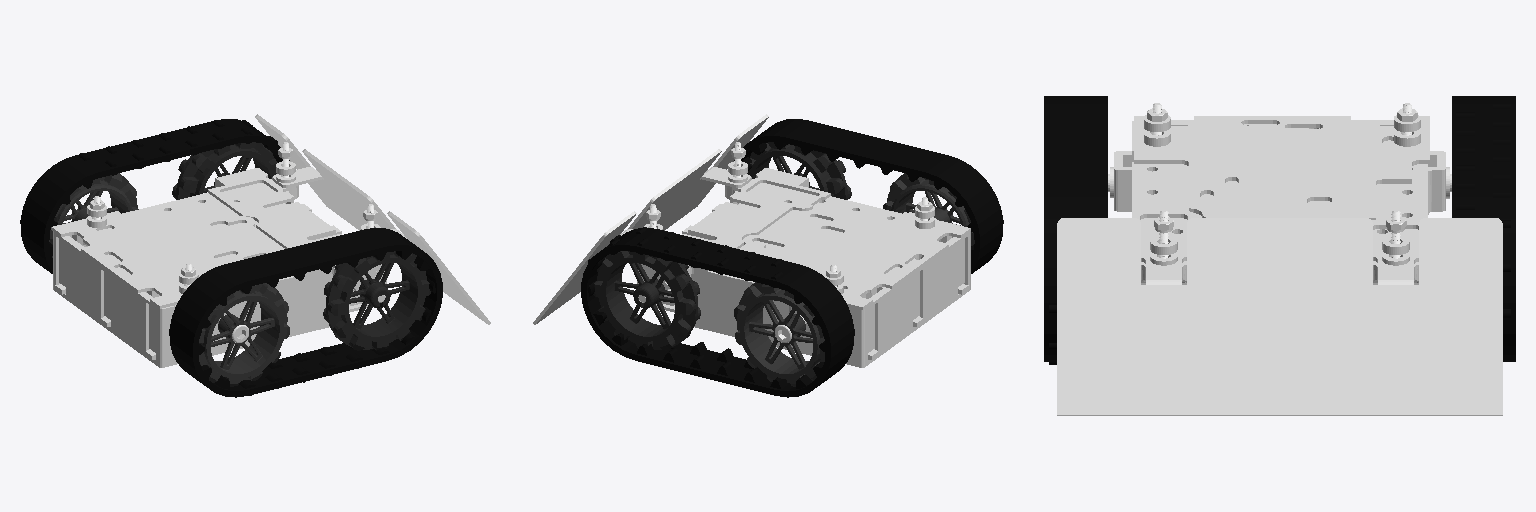
URDF robot description (ROBOT_ZUMO_URDF.SLDASM):
<?xml version="1.0"?>
<robot name="ROBOT_ZUMO_URDF.SLDASM">

  <!-- =========================
       BASE
       ========================= -->
  <link name="base_link">
    <inertial>
      <origin xyz="0.0236 -5.1838E-05 -0.0061259" rpy="0 0 0" />
      <mass value="0.11075" />
      <inertia
        ixx="4.9793E-05"
        ixy="3.8196E-08"
        ixz="2.6959E-06"
        iyy="2.5319E-05"
        iyz="-8.3368E-09"
        izz="6.6541E-05" />
    </inertial>
    <visual>
      <origin xyz="0 0 0" rpy="0 0 0" />
      <geometry>
        <mesh filename="package://zumo_1/meshes/base_link.STL" />
      </geometry>
      <material name="base_light">
        <color rgba="0.93 0.93 0.93 1" />
      </material>
    </visual>
    <collision>
      <origin xyz="0 0 0" rpy="0 0 0" />
      <geometry>
        <mesh filename="package://zumo_1/meshes/base_link.STL" />
      </geometry>
    </collision>
  </link>

  <!-- =========================
       LEFT WHEEL
       ========================= -->
  <link name="left_wheel_link">
    <inertial>
      <origin xyz="6.9713E-07 -1.653E-05 -0.0043321" rpy="0 0 0" />
      <mass value="0.0029113" />
      <inertia
        ixx="2.8399E-07"
        ixy="-4.3011E-12"
        ixz="1.9308E-12"
        iyy="2.8409E-07"
        iyz="-4.5784E-11"
        izz="5.3685E-07" />
    </inertial>
    <visual>
      <origin xyz="0 0 0" rpy="0 0 0" />
      <geometry>
        <mesh filename="package://zumo_1/meshes/left_wheel_link.STL" />
      </geometry>
      <material name="wheel_dark">
        <color rgba="0.20 0.20 0.20 1" />
      </material>
    </visual>
    <collision>
      <origin xyz="0 0 0" rpy="0 0 0" />
      <geometry>
        <mesh filename="package://zumo_1/meshes/left_wheel_link.STL" />
      </geometry>
    </collision>
  </link>

  <joint name="left_wheel_joint" type="continuous">
    <origin xyz="0.02926 0.04866 -0.006" rpy="-1.5708 -0.0058913 0" />
    <parent link="base_link" />
    <child link="left_wheel_link" />
    <axis xyz="0 0 1" />
    <limit effort="100" velocity="100" />
    <dynamics damping="0.005" friction="0.03" />
  </joint>

  <!-- =========================
       RIGHT WHEEL
       ========================= -->
  <link name="right_wheel_link">
    <inertial>
      <origin xyz="3.6323E-07 -1.6541E-05 0.0043321" rpy="0 0 0" />
      <mass value="0.0029113" />
      <inertia
        ixx="2.8399E-07"
        ixy="-2.2425E-12"
        ixz="-1.0061E-12"
        iyy="2.8409E-07"
        iyz="4.5814E-11"
        izz="5.3685E-07" />
    </inertial>
    <visual>
      <origin xyz="0 0 0" rpy="0 0 0" />
      <geometry>
        <mesh filename="package://zumo_1/meshes/right_wheel_link.STL" />
      </geometry>
      <material name="wheel_dark_r">
        <color rgba="0.20 0.20 0.20 1" />
      </material>
    </visual>
    <collision>
      <origin xyz="0 0 0" rpy="0 0 0" />
      <geometry>
        <mesh filename="package://zumo_1/meshes/right_wheel_link.STL" />
      </geometry>
    </collision>
  </link>

  <joint name="right_wheel_joint" type="continuous">
    <origin xyz="0.02926 -0.04888 -0.006" rpy="-1.5708 -0.0058913 0" />
    <parent link="base_link" />
    <child link="right_wheel_link" />
    <axis xyz="0 0 1" />
    <limit effort="100" velocity="100" />
    <dynamics damping="0.005" friction="0.03" />
  </joint>

  <!-- =========================
       RIGHT IDLER
       ========================= -->
  <link name="right_idler_link">
    <inertial>
      <origin xyz="1.3878E-17 -1.3878E-17 0.0054685" rpy="0 0 0" />
      <mass value="0.0030148" />
      <inertia
        ixx="2.9977E-07"
        ixy="-3.7071E-20"
        ixz="1.5007E-23"
        iyy="2.9977E-07"
        iyz="-2.5771E-23"
        izz="5.6146E-07" />
    </inertial>
    <visual>
      <origin xyz="0 0 0" rpy="0 0 0" />
      <geometry>
        <mesh filename="package://zumo_1/meshes/right_idler_link.STL" />
      </geometry>
      <material name="idler_dark_r">
        <color rgba="0.25 0.25 0.25 1" />
      </material>
    </visual>
    <collision>
      <origin xyz="0 0 0" rpy="0 0 0" />
      <geometry>
        <mesh filename="package://zumo_1/meshes/right_idler_link.STL" />
      </geometry>
    </collision>
  </link>

  <joint name="right_idler_joint" type="continuous">
    <origin xyz="-0.01974 -0.05063 -0.0062887" rpy="-1.5708 -0.0058913 0" />
    <parent link="base_link" />
    <child link="right_idler_link" />
    <axis xyz="0 0 1" />
    <limit effort="100" velocity="100" />
    <dynamics damping="0.001" friction="0.005" />
  </joint>

  <!-- =========================
       LEFT IDLER
       ========================= -->
  <link name="left_idler_link">
    <inertial>
      <origin xyz="2.0817E-17 1.3878E-17 -0.0054685" rpy="0 0 0" />
      <mass value="0.0030148" />
      <inertia
        ixx="2.9977E-07"
        ixy="3.7601E-20"
        ixz="-1.1937E-23"
        iyy="2.9977E-07"
        iyz="8.6886E-24"
        izz="5.6146E-07" />
    </inertial>
    <visual>
      <origin xyz="0 0 0" rpy="0 0 0" />
      <geometry>
        <mesh filename="package://zumo_1/meshes/left_idler_link.STL" />
      </geometry>
      <material name="idler_dark_l">
        <color rgba="0.25 0.25 0.25 1" />
      </material>
    </visual>
    <collision>
      <origin xyz="0 0 0" rpy="0 0 0" />
      <geometry>
        <mesh filename="package://zumo_1/meshes/left_idler_link.STL" />
      </geometry>
    </collision>
  </link>

  <joint name="left_idler_joint" type="continuous">
    <origin xyz="-0.01974 0.05041 -0.0062887" rpy="-1.5708 -0.0058913 0" />
    <parent link="base_link" />
    <child link="left_idler_link" />
    <axis xyz="0 0 1" />
    <limit effort="100" velocity="100" />
    <dynamics damping="0.001" friction="0.005" />
  </joint>

  <!-- =========================
       LEFT TRACK — oruga silicona Pololu 22T
       preserveFixedJoint evita que el convertidor URDF→SDF
       fusione este link con base_link (link lumping).
       Sin esto, el plugin no encuentra left_track_link.
       ========================= -->
  <link name="left_track_link">
    <inertial>
      <origin xyz="0 0 0" rpy="0 0 0" />
      <mass value="0.001" />
      <inertia ixx="1e-6" ixy="0" ixz="0"
               iyy="1e-6" iyz="0" izz="1e-6" />
    </inertial>
    <visual>
      <origin xyz="0 0 0" rpy="0 0 0" />
      <geometry>
        <mesh filename="package://zumo_1/meshes/left_track_link.STL" />
      </geometry>
      <material name="track_dark_l">
        <color rgba="0.08 0.08 0.08 1" />
      </material>
    </visual>
    <collision>
      <origin xyz="0 0 0" rpy="0 0 0" />
      <geometry>
        <mesh filename="package://zumo_1/meshes/left_track_link.STL" />
      </geometry>
    </collision>
  </link>

  <joint name="left_track_joint" type="fixed">
    <origin xyz="0.0048605 0.04466 -0.00614" rpy="0 -0.0058913 0" />
    <parent link="base_link" />
    <child link="left_track_link" />
  </joint>

  <!-- preserveFixedJoint en el joint de la track izquierda -->
  <gazebo reference="left_track_joint">
    <preserveFixedJoint>true</preserveFixedJoint>
  </gazebo>

  <!-- =========================
       RIGHT TRACK — oruga silicona Pololu 22T
       ========================= -->
  <link name="right_track_link">
    <inertial>
      <origin xyz="0 0 0" rpy="0 0 0" />
      <mass value="0.001" />
      <inertia ixx="1e-6" ixy="0" ixz="0"
               iyy="1e-6" iyz="0" izz="1e-6" />
    </inertial>
    <visual>
      <origin xyz="0 0 0" rpy="0 0 0" />
      <geometry>
        <mesh filename="package://zumo_1/meshes/right_track_link.STL" />
      </geometry>
      <material name="track_dark_r">
        <color rgba="0.08 0.08 0.08 1" />
      </material>
    </visual>
    <collision>
      <origin xyz="0 0 0" rpy="0 0 0" />
      <geometry>
        <mesh filename="package://zumo_1/meshes/right_track_link.STL" />
      </geometry>
    </collision>
  </link>

  <joint name="right_track_joint" type="fixed">
    <origin xyz="0.0048605 -0.04488 -0.00614" rpy="0 -0.0058913 0" />
    <parent link="base_link" />
    <child link="right_track_link" />
  </joint>

  <!-- preserveFixedJoint en el joint de la track derecha -->
  <gazebo reference="right_track_joint">
    <preserveFixedJoint>true</preserveFixedJoint>
  </gazebo>

  <!-- =========================
       IMU
       ========================= -->
  <link name="imu_link"/>

  <joint name="imu_joint" type="fixed">
    <origin xyz="0.0 0 0.0" rpy="0 0 0" />
    <parent link="base_link" />
    <child link="imu_link" />
    <axis xyz="1 0 0" />
  </joint>

  <gazebo reference="imu_link">
    <gravity>true</gravity>
    <sensor name="imu_sensor" type="imu">
      <always_on>true</always_on>
      <update_rate>100</update_rate>
      <visualize>true</visualize>
      <topic>imu_data</topic>
      <plugin filename="libgazebo_ros_imu_sensor.so" name="imu_plugin">
        <topicName>imu_data</topicName>
        <bodyName>imu_link</bodyName>
        <updateRateHZ>10.0</updateRateHZ>
        <gaussianNoise>0.005</gaussianNoise>
        <xyzOffset>0 0 0</xyzOffset>
        <rpyOffset>0 0 0</rpyOffset>
        <frameName>imu_link</frameName>
        <initialOrientationAsReference>true</initialOrientationAsReference>
      </plugin>
      <pose>0 0 0 0 0 0</pose>
    </sensor>
  </gazebo>

  <!-- =========================
       GAZEBO CONTACT PARAMETERS
       ========================= -->
  <gazebo reference="base_link">
    <mu1>0.8</mu1>
    <mu2>0.8</mu2>
    <kp>100000</kp>
    <kd>10.0</kd>
    <material>Gazebo/White</material>
  </gazebo>

  <!-- Orugas de silicona Pololu 22T:
       mu1 (dirección de avance, fdir1=X): 1.5 → tracción longitudinal
       mu2 (lateral):                      0.3 → permite giro diferencial
       kp más bajo que ABS porque silicona es más deformable -->
  <gazebo reference="left_track_link">
    <mu1>1.5</mu1>
    <mu2>0.3</mu2>
    <fdir1>1 0 0</fdir1>
    <kp>80000</kp>
    <kd>5.0</kd>
    <material>Gazebo/Black</material>
  </gazebo>

  <gazebo reference="right_track_link">
    <mu1>1.5</mu1>
    <mu2>0.3</mu2>
    <fdir1>1 0 0</fdir1>
    <kp>80000</kp>
    <kd>5.0</kd>
    <material>Gazebo/Black</material>
  </gazebo>

  <!-- Sprockets ABS: fricción baja, no son los que traccionan -->
  <gazebo reference="left_wheel_link">
    <mu1>0.4</mu1>
    <mu2>0.4</mu2>
    <kp>120000</kp>
    <kd>10.0</kd>
    <material>Gazebo/Black</material>
  </gazebo>

  <gazebo reference="right_wheel_link">
    <mu1>0.4</mu1>
    <mu2>0.4</mu2>
    <kp>120000</kp>
    <kd>10.0</kd>
    <material>Gazebo/Black</material>
  </gazebo>

  <gazebo reference="left_idler_link">
    <mu1>0.4</mu1>
    <mu2>0.4</mu2>
    <kp>120000</kp>
    <kd>10.0</kd>
    <material>Gazebo/DarkGrey</material>
  </gazebo>

  <gazebo reference="right_idler_link">
    <mu1>0.4</mu1>
    <mu2>0.4</mu2>
    <kp>120000</kp>
    <kd>10.0</kd>
    <material>Gazebo/DarkGrey</material>
  </gazebo>

  <!-- =========================
       SIMPLE TRACKED VEHICLE PLUGIN
       Escucha el tópico Gazebo interno ~/cmd_vel_twist (Twist).
       Para bridgearlo desde ROS 2 /cmd_vel se usa el plugin
       libgazebo_ros_planar_move definido abajo.
       ========================= -->
  <gazebo>
    <plugin name="simple_tracked_vehicle" filename="libSimpleTrackedVehiclePlugin.so">
      <body>base_link</body>
      <left_track>left_track_link</left_track>
      <right_track>right_track_link</right_track>
      <track_mu>1.5</track_mu>
      <track_mu2>0.3</track_mu2>
      <steering_efficiency>1.0</steering_efficiency>
      <tracks_separation>0.08954</tracks_separation>
      <max_linear_speed>0.4</max_linear_speed>
      <max_angular_speed>2.0</max_angular_speed>
    </plugin>
  </gazebo>

  <!-- =========================
       PLANAR MOVE PLUGIN (puente ROS2 → Gazebo)
       El SimpleTrackedVehiclePlugin es un plugin puro de
       Gazebo Classic (no gazebo_ros), por lo que NO expone
       un tópico ROS directamente. Este plugin sí es gazebo_ros
       y publica /cmd_vel como ROS 2 Twist, aplicando la
       velocidad al base_link. Trabaja en paralelo con el
       SimpleTrackedVehiclePlugin para que el teleop funcione.
       ========================= -->
  <gazebo>
    <plugin name="gazebo_ros_planar_move" filename="libgazebo_ros_planar_move.so">
      <ros>
        <remapping>cmd_vel:=cmd_vel</remapping>
        <remapping>odom:=odom</remapping>
      </ros>
      <update_rate>100</update_rate>
      <publish_rate>10</publish_rate>
      <publish_odom>true</publish_odom>
      <publish_odom_tf>true</publish_odom_tf>
      <odometry_frame>odom</odometry_frame>
      <robot_base_frame>base_link</robot_base_frame>
      <covariance_x>0.0001</covariance_x>
      <covariance_y>0.0001</covariance_y>
      <covariance_yaw>0.01</covariance_yaw>
    </plugin>
  </gazebo>

  <!-- =========================
       JOINT STATE PUBLISHER FOR IDLERS
       ========================= -->
  <gazebo>
    <plugin name="gazebo_ros_joint_state_publisher"
            filename="libgazebo_ros_joint_state_publisher.so">
      <update_rate>50</update_rate>
      <joint_name>left_wheel_joint</joint_name>
      <joint_name>right_wheel_joint</joint_name>
      <joint_name>left_idler_joint</joint_name>
      <joint_name>right_idler_joint</joint_name>
    </plugin>
  </gazebo>

</robot>

--- Render facts (derived) ---
3 views of the same robot in one strip: view 1: azimuth 30°, elevation 25°; view 2: azimuth 150°, elevation 25°; view 3: azimuth 270°, elevation 25° (orthographic).
Model ROBOT_ZUMO_URDF.SLDASM with 8 links and 7 joints (4 continuous, 3 fixed), rooted at base_link, posed every joint at zero.
Links seen in each view (by area): view 1: base_link, right_track_link, left_track_link, right_wheel_link, right_idler_link, left_wheel_link, left_idler_link; view 2: base_link, left_track_link, right_track_link, left_wheel_link, left_idler_link, right_wheel_link, right_idler_link; view 3: base_link, right_track_link, left_track_link.
Link boxes in pixels (<box>): base_link: <box>51,114,490,367</box>; right_track_link: <box>169,228,442,397</box>; left_track_link: <box>20,119,289,273</box>; right_wheel_link: <box>323,251,430,350</box>; right_idler_link: <box>199,283,289,386</box>; left_wheel_link: <box>172,142,277,199</box>; left_idler_link: <box>49,173,138,257</box>; base_link: <box>533,114,970,367</box>; left_track_link: <box>581,227,854,397</box>; right_track_link: <box>734,119,1003,273</box>; left_wheel_link: <box>593,251,700,350</box>; left_idler_link: <box>734,282,824,386</box>; right_wheel_link: <box>747,142,851,199</box>; right_idler_link: <box>883,173,974,245</box>; base_link: <box>1057,103,1502,415</box>; right_track_link: <box>1044,96,1107,364</box>; left_track_link: <box>1452,96,1515,361</box>.
Size in the robot's own frame: 0.1064 by 0.1035 by 0.0401 metres.
Meshes: 7 distinct files referenced, 7 mesh visuals loaded (7 binary STL).
